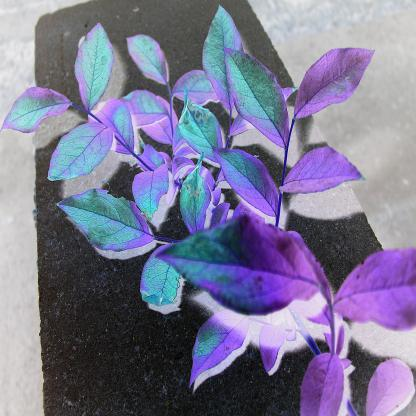Blueberry leaf: (157, 218, 331, 325), (285, 42, 381, 129), (225, 42, 291, 150), (52, 191, 164, 253), (179, 307, 256, 386), (204, 142, 283, 217), (280, 143, 371, 204), (201, 2, 242, 126), (43, 123, 118, 185), (175, 89, 229, 166), (2, 83, 75, 138), (294, 347, 348, 416), (69, 22, 102, 113), (122, 32, 167, 98), (133, 154, 174, 224)
